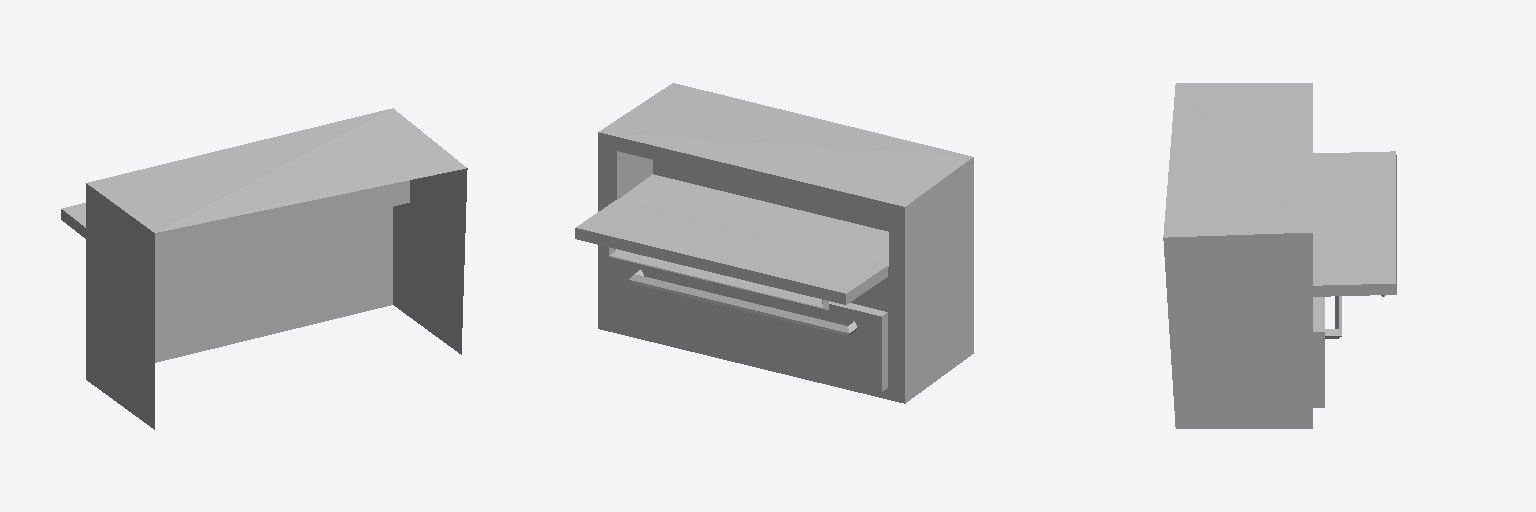
File: oven2.obj
3 views of the same model, side by side, from view 1: azimuth 30°, elevation 25°; view 2: azimuth 150°, elevation 25°; view 3: azimuth 270°, elevation 25° (orthographic).
Visible parts, largest first — view 1: Cube.001_Cube; view 2: Cube.001_Cube; view 3: Cube.001_Cube.
Part boxes in pixels (bbox=[...]): Cube.001_Cube: bbox=[61, 108, 467, 429]; Cube.001_Cube: bbox=[575, 83, 973, 403]; Cube.001_Cube: bbox=[1163, 83, 1396, 428].
Size of the model in its own units: 6.52 by 3.99 by 4.3.